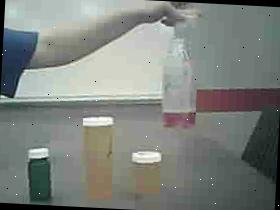Bottle A: (71, 110, 124, 206)
Bottle B: (124, 146, 170, 198)
Bottle C: (17, 142, 69, 206)
hazard: (154, 1, 210, 131)
